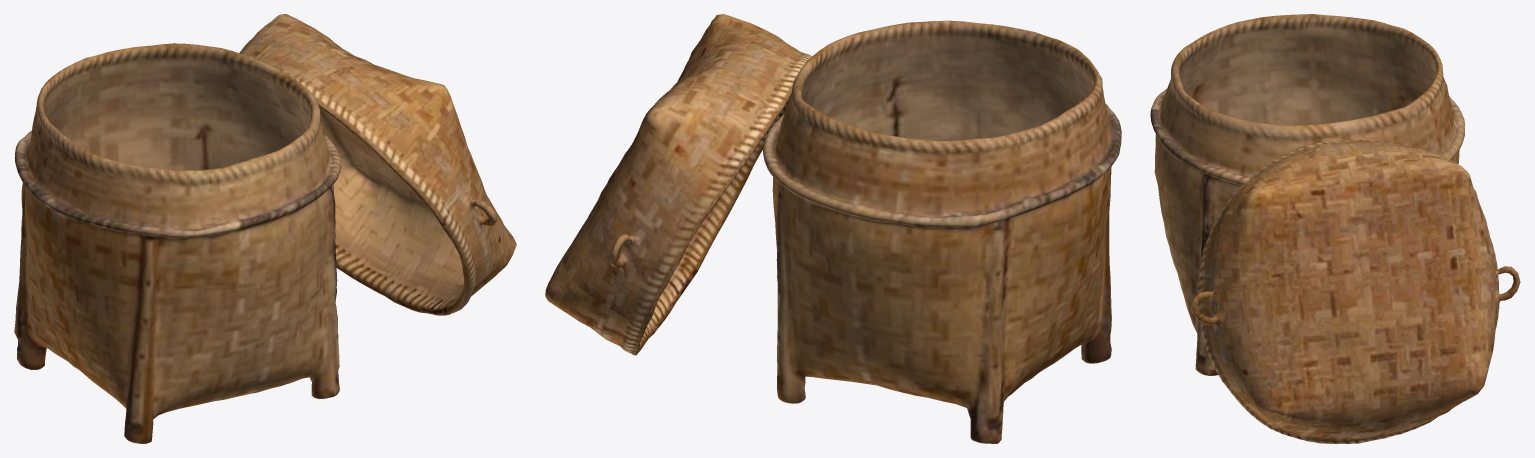
Rendered from wicker_basket_02.glb.
The picture shows the model from 3 angles, left to right: view 1: azimuth 30°, elevation 25°; view 2: azimuth 150°, elevation 25°; view 3: azimuth 270°, elevation 25°; orthographic projection. The views are drawn at different scales.
Parts seen in each view (by area): view 1: wicker_basket_02_base; view 2: wicker_basket_02_base; view 3: wicker_basket_02_base.
Part boxes in pixels (x1,y1,x2,y2): wicker_basket_02_base: (14, 14, 516, 443); wicker_basket_02_base: (545, 14, 1121, 443); wicker_basket_02_base: (1150, 14, 1520, 443).
Size of the model in its own units: 0.3469 by 0.2005 by 0.2545.
1 material, 1 textured.
